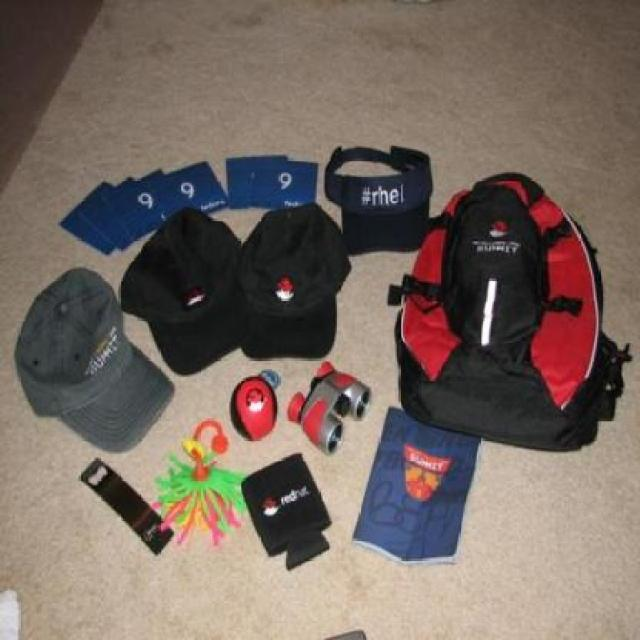backpack: (394, 163, 638, 459)
